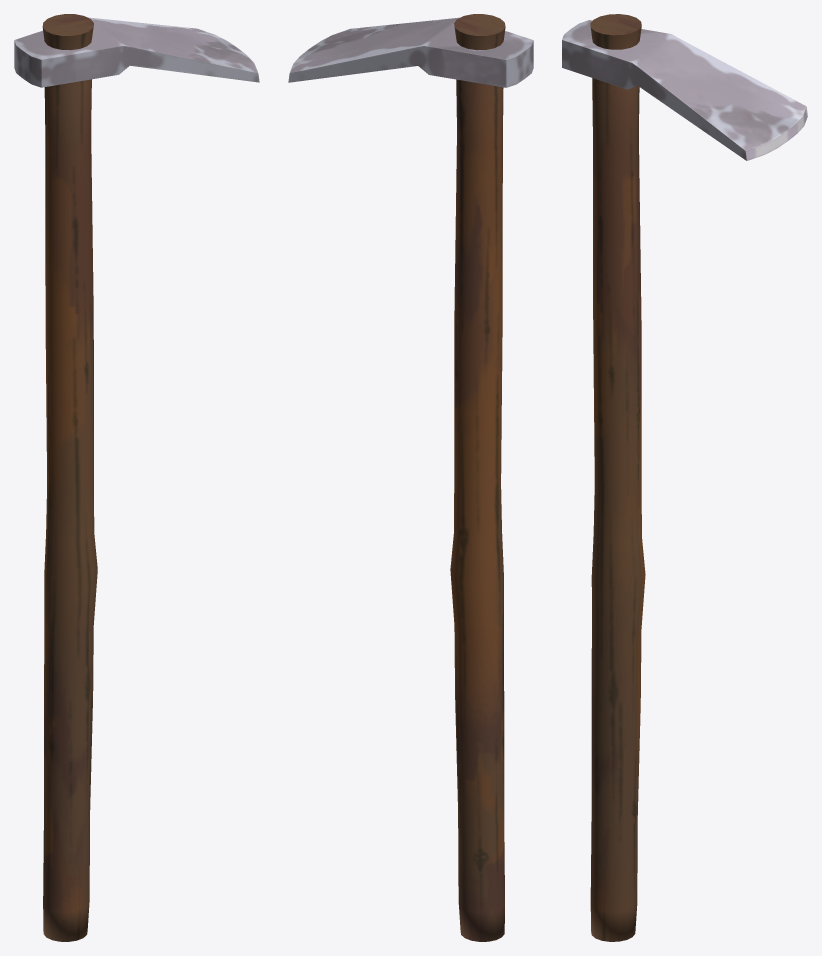
The model's file is Hoe_Steel.fbx.
3 renders of one model, left to right at view 1: azimuth 30°, elevation 25°; view 2: azimuth 150°, elevation 25°; view 3: azimuth 330°, elevation 25°, orthographic.
Parts seen in each view (by area): view 1: Hoe_Steel; view 2: Hoe_Steel; view 3: Hoe_Steel.
Part boxes in pixels (box(x1,y1,x2,y2)): Hoe_Steel: box(14, 14, 259, 941); Hoe_Steel: box(288, 14, 533, 941); Hoe_Steel: box(562, 14, 807, 941).
Size of the model in its own units: 25.58 by 102 by 12.48.
